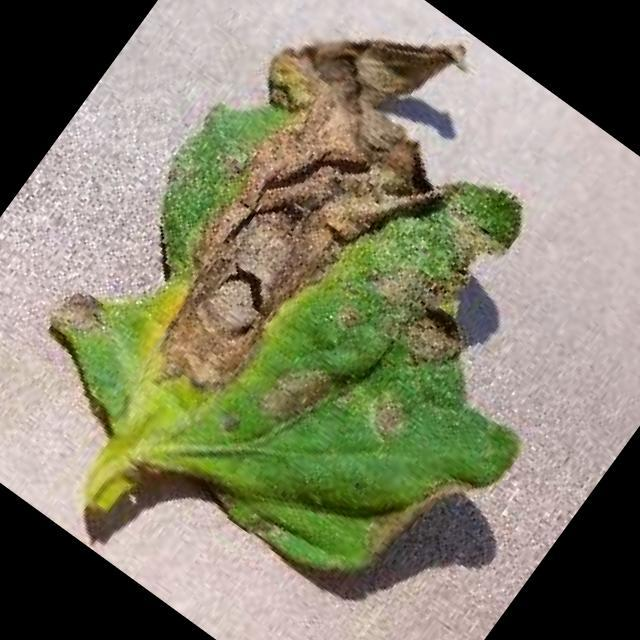Tomato Early blight leaf: (14, 0, 640, 631)
